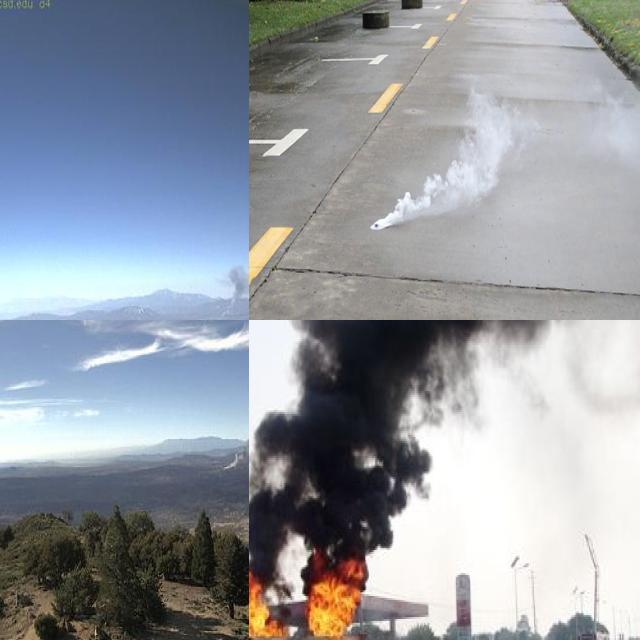fire: (307, 554, 364, 640), (249, 563, 280, 640)
smoke: (249, 320, 613, 558), (369, 86, 541, 232), (589, 81, 640, 166), (216, 258, 249, 320), (222, 413, 249, 476)
